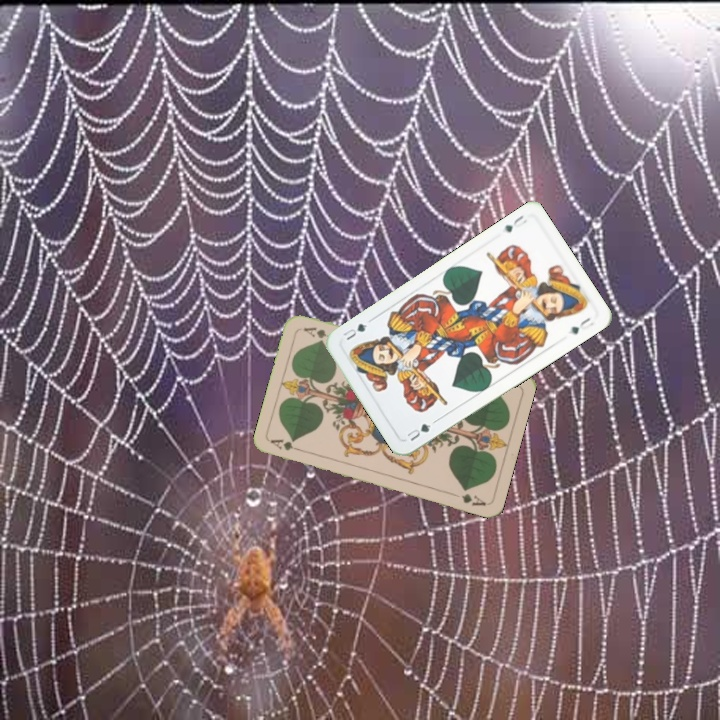GA: (267, 435, 307, 455)
GU: (403, 419, 434, 444), (500, 211, 530, 235)
